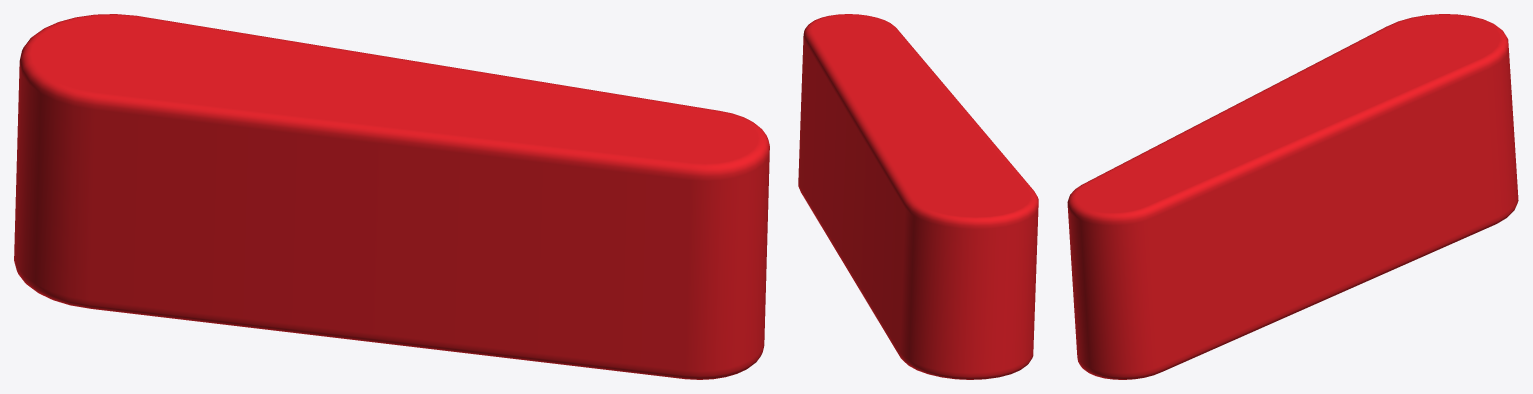
Rendered from flipper.obj.
The picture shows the model from 3 angles, left to right: view 1: azimuth 30°, elevation 25°; view 2: azimuth 150°, elevation 25°; view 3: azimuth 270°, elevation 25°; orthographic projection. The views are drawn at different scales.
Parts seen in each view (by area): view 1: ARCHMODELS_47_050_47; view 2: ARCHMODELS_47_050_47; view 3: ARCHMODELS_47_050_47.
Boxes of the visible parts, <box> form: ARCHMODELS_47_050_47: <box>14,14,769,379</box>; ARCHMODELS_47_050_47: <box>798,14,1038,379</box>; ARCHMODELS_47_050_47: <box>1067,14,1518,379</box>.
Bounding box in the file's own units: 0.0489 × 0.0222 × 0.0489.
